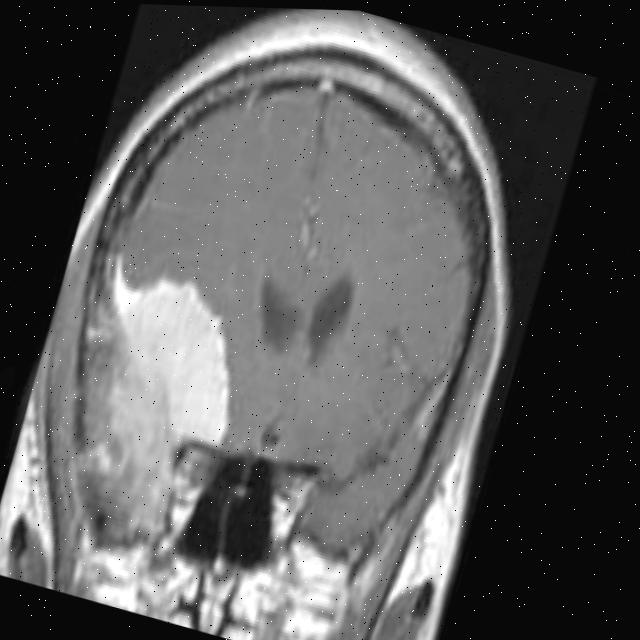Meningioma: (42, 248, 266, 563)
